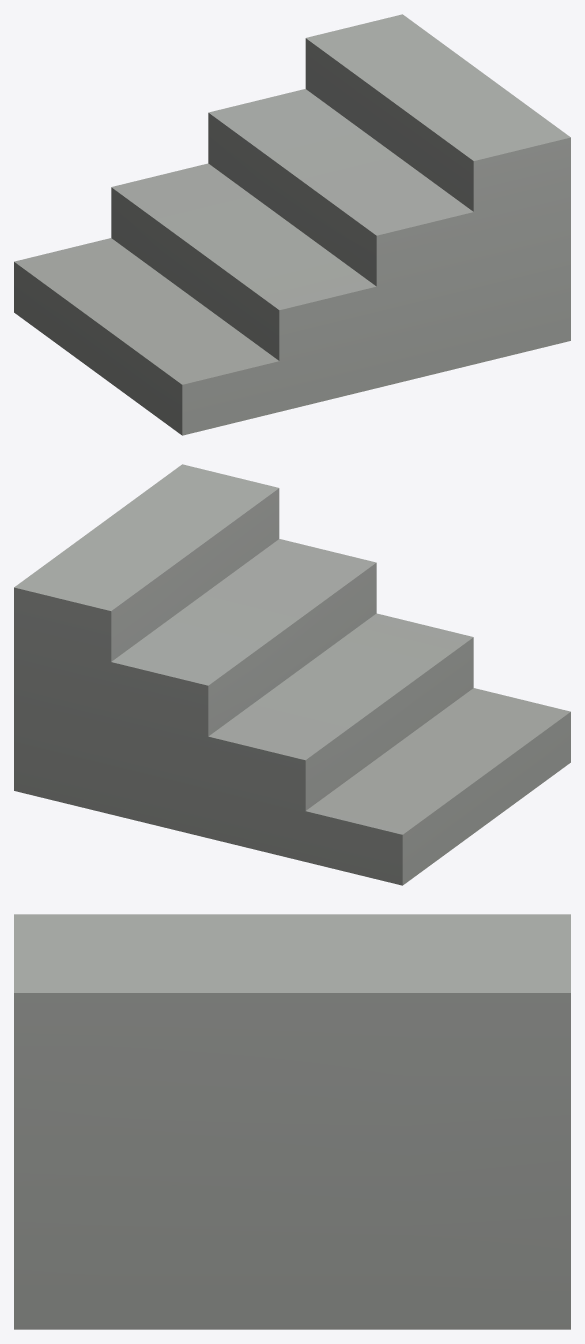
The model's file is Stairs_Deep.fbx.
3 renders of one model, top to bottom at view 1: azimuth 30°, elevation 25°; view 2: azimuth 150°, elevation 25°; view 3: azimuth 270°, elevation 25°, orthographic. The views are drawn at different scales.
Visible parts, largest first — view 1: Stairs_Deep; view 2: Stairs_Deep; view 3: Stairs_Deep.
Part boxes in pixels (x1,y1,x2,y2): Stairs_Deep: [14, 14, 570, 435]; Stairs_Deep: [14, 464, 570, 885]; Stairs_Deep: [14, 914, 570, 1329].
Size of the model in its own units: 100 by 50 by 75.
